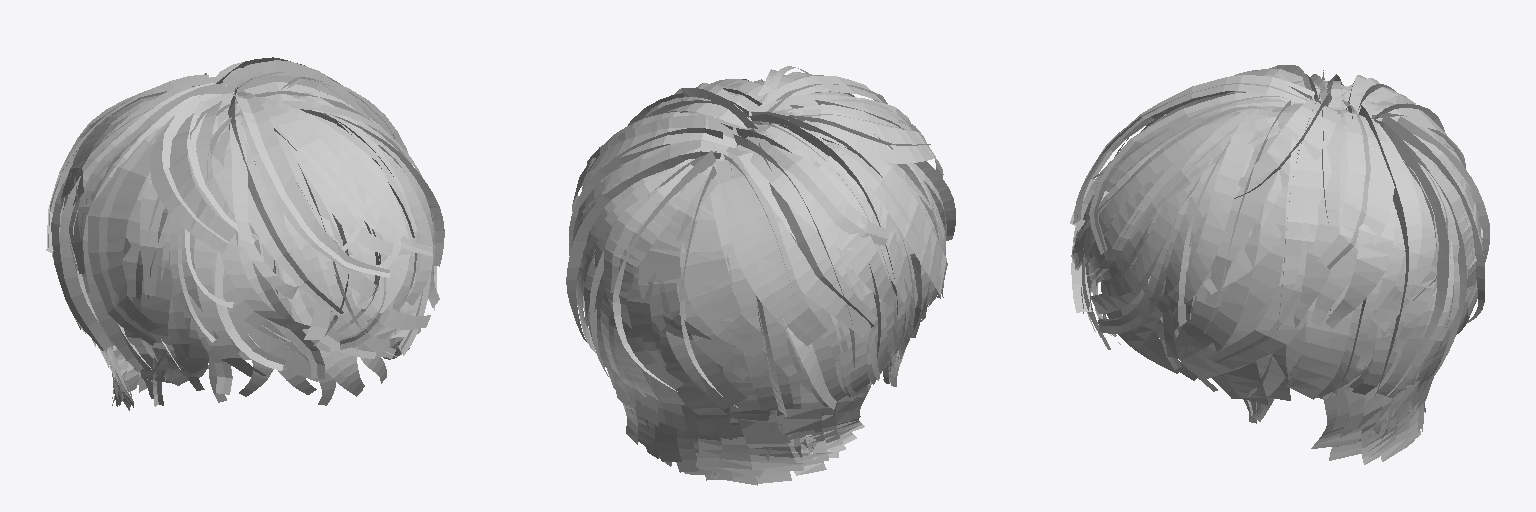
Rendered from Male Hair13.obj.
The picture shows the model from 3 angles: view 1: azimuth 30°, elevation 25°; view 2: azimuth 150°, elevation 25°; view 3: azimuth 270°, elevation 25°; orthographic projection.
Parts seen in each view (by area): view 1: Hair13; view 2: Hair13; view 3: Hair13.
Boxes of the visible parts, box(x1,y1,x2,y2) form: Hair13: box(46, 57, 444, 410); Hair13: box(566, 66, 955, 485); Hair13: box(1070, 65, 1489, 464).
Size of the model in its own units: 19.48 by 19.62 by 21.9.